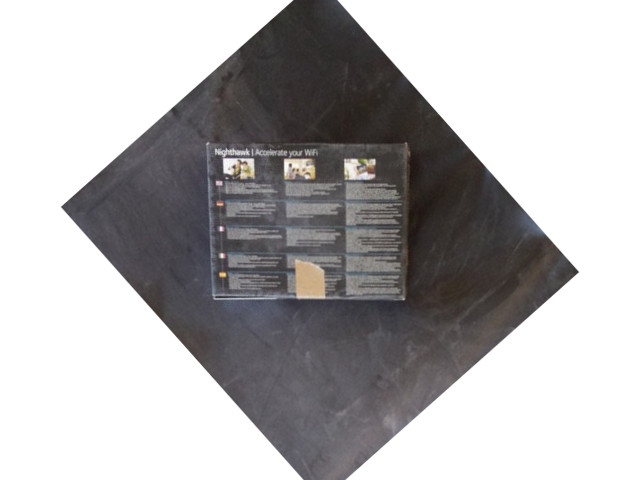cardboard: (203, 142, 409, 298)
